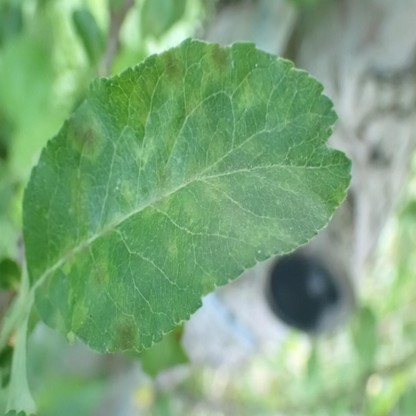scab: (35, 45, 345, 349)
